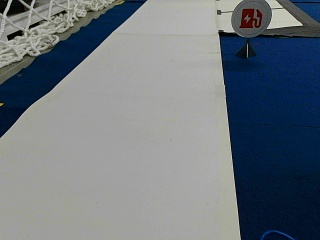battery: (229, 0, 272, 37)
